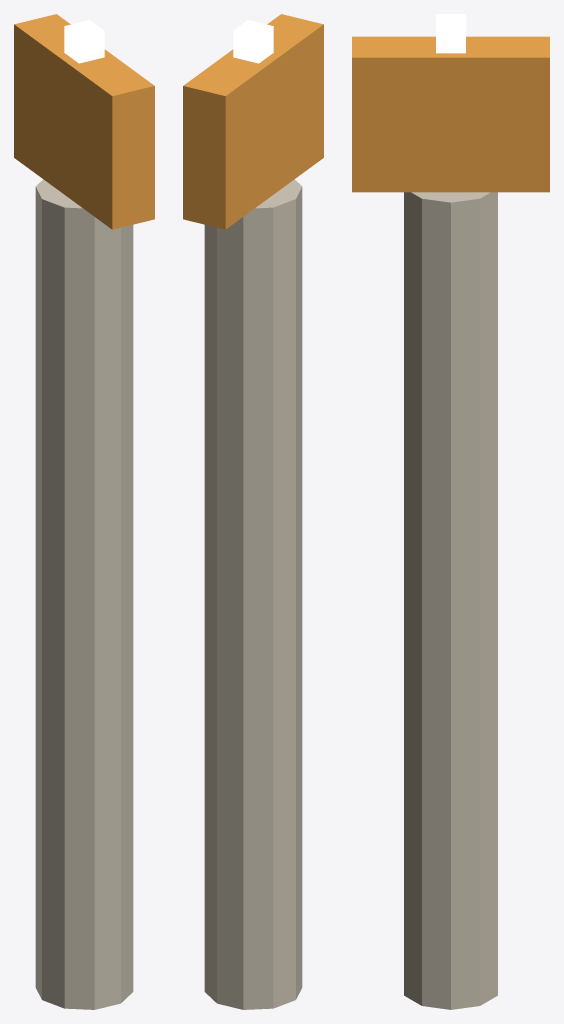
Rendered from leading_light.glb.
The picture shows the model from 3 angles, left to right: view 1: azimuth 30°, elevation 25°; view 2: azimuth 150°, elevation 25°; view 3: azimuth 270°, elevation 25°; orthographic projection.
Parts seen in each view (by area): view 1: LOD0; view 2: LOD0; view 3: LOD0.
Boxes of the visible parts, bbox=[...] form: LOD0: bbox=[14, 14, 154, 1009]; LOD0: bbox=[183, 14, 323, 1009]; LOD0: bbox=[352, 14, 549, 1009].
Size of what is drawn, in the model's own units: 2 by 21.6 by 4.
